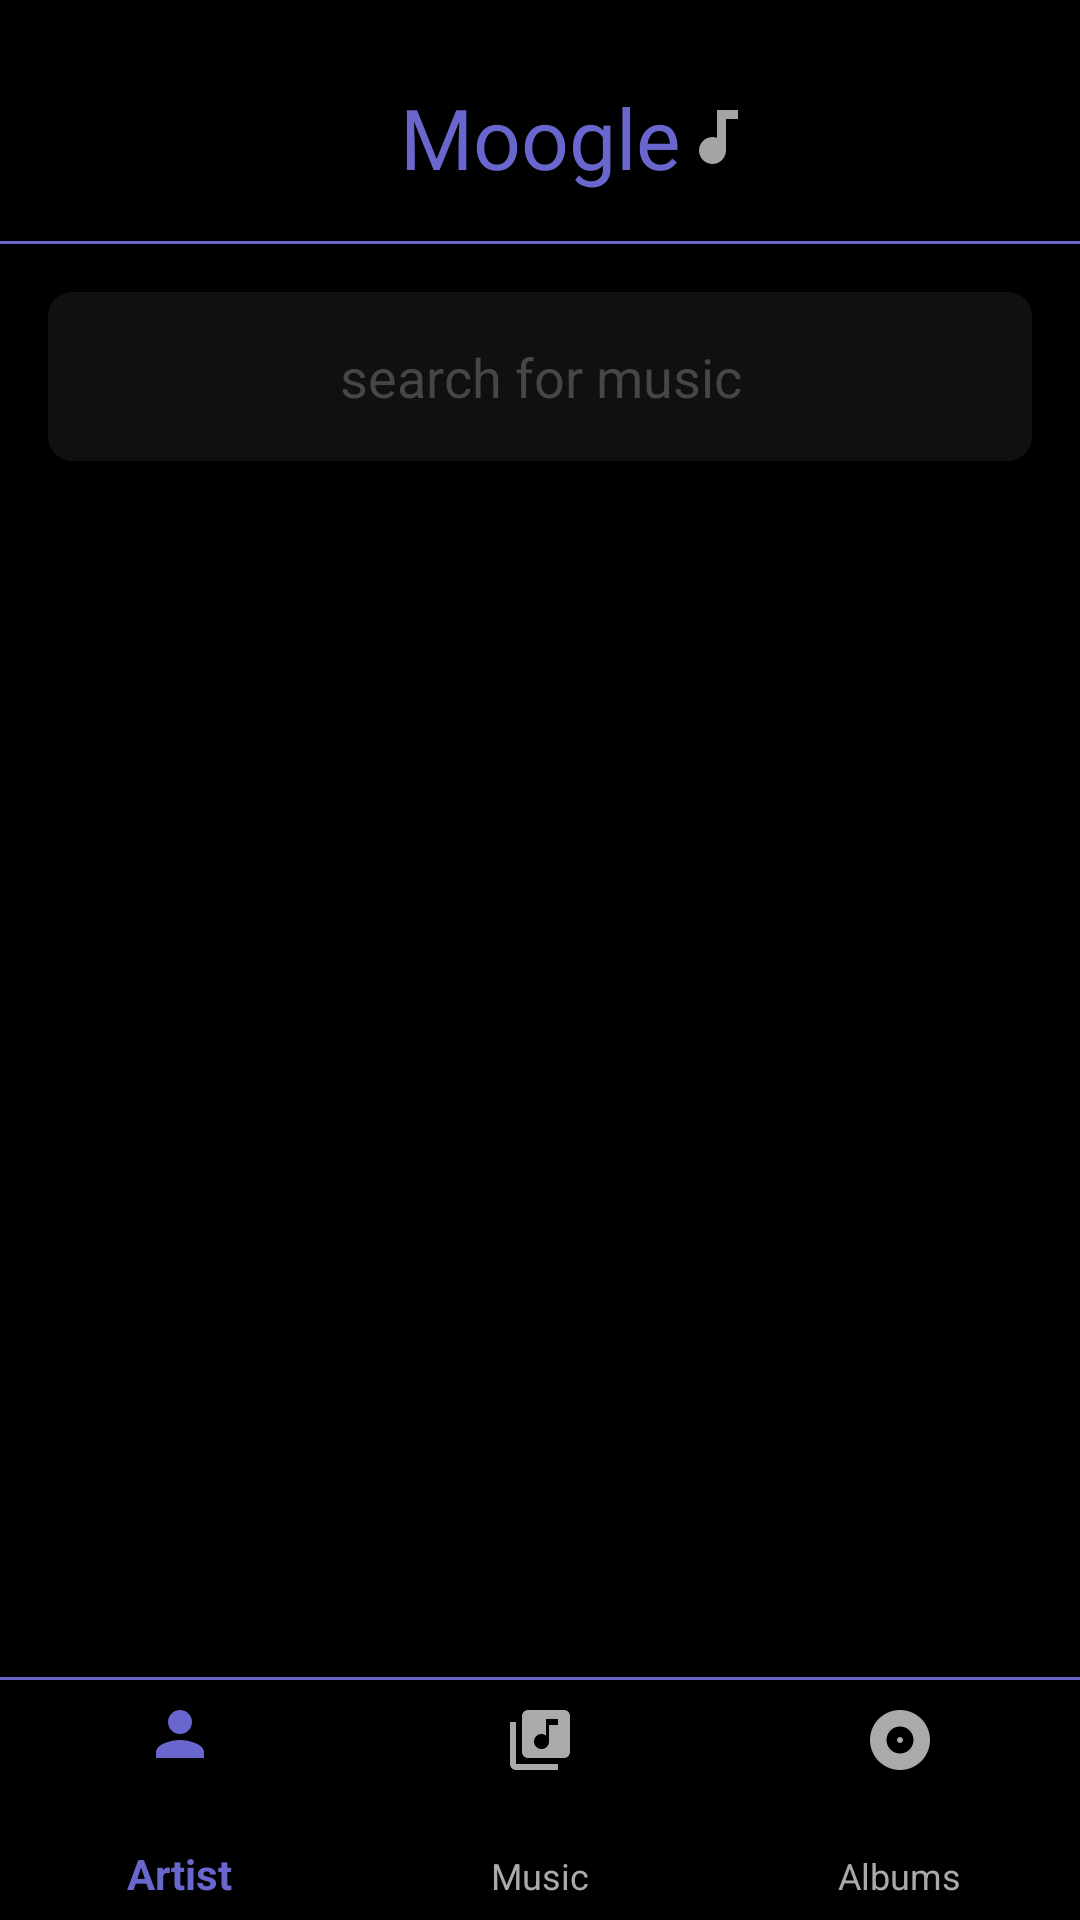

Where icons sit on this 1080w x 1920h app screen, as detection(x1, y1, x2, y2):
audio silver: detection(699, 110, 738, 164)
